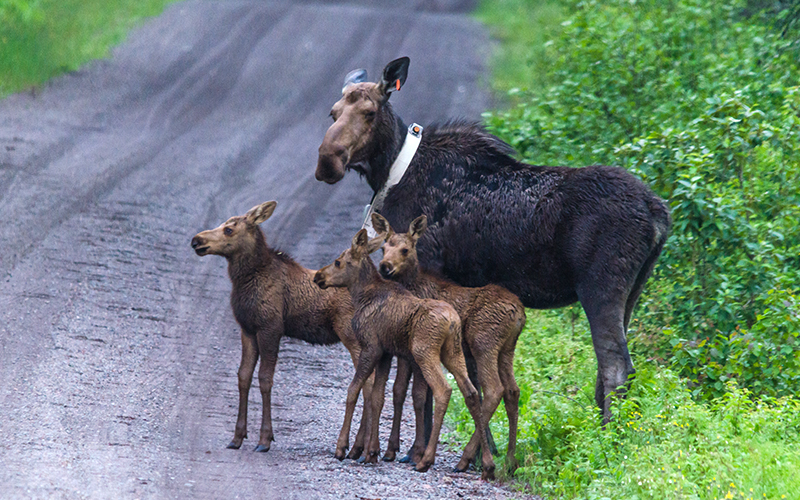moose: (312, 52, 667, 433), (187, 196, 529, 471)
